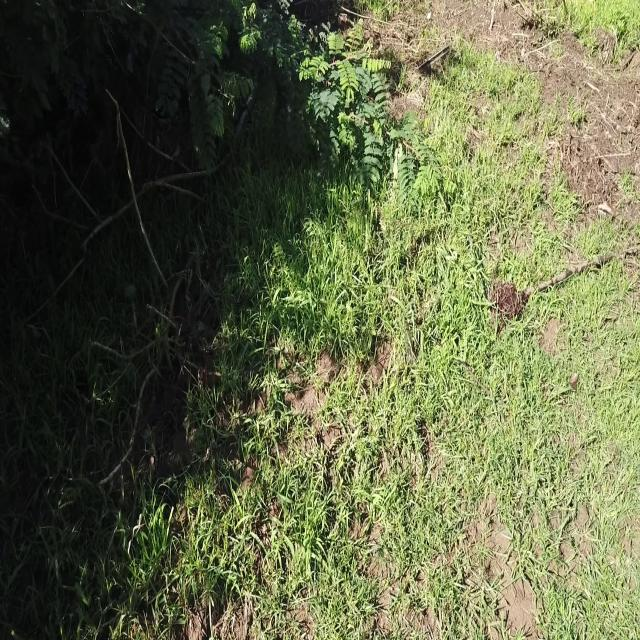Mysore-Thorn-Weed: (268, 7, 445, 224), (157, 0, 256, 147)
